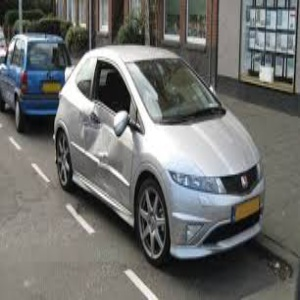door: (71, 108, 123, 202)
